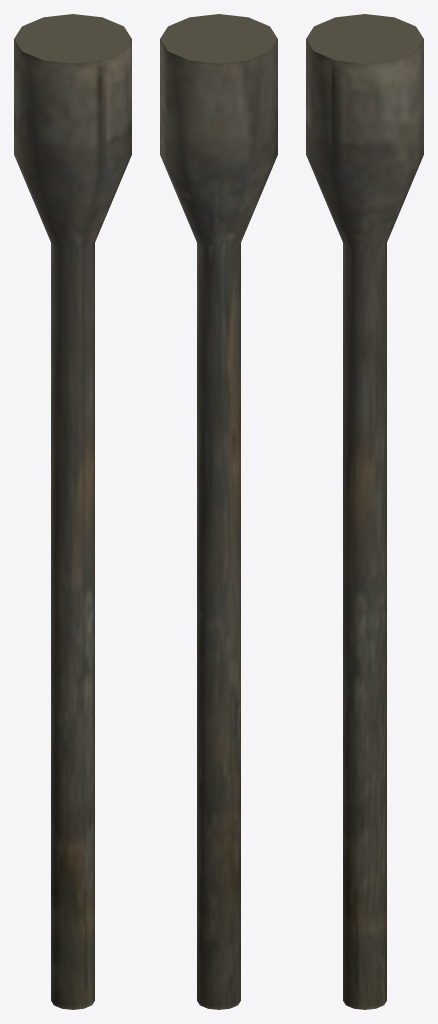
Rendered from flamingbrand.glb.
The picture shows the model from 3 angles, left to right: view 1: azimuth 30°, elevation 25°; view 2: azimuth 210°, elevation 25°; view 3: azimuth 330°, elevation 25°; orthographic projection.
Parts seen in each view (by area): view 1: flamingbrand.ms3d.mo; view 2: flamingbrand.ms3d.mo; view 3: flamingbrand.ms3d.mo.
Part boxes in pixels (box(x1,y1,x2,y2)): flamingbrand.ms3d.mo: box(14, 14, 131, 1009); flamingbrand.ms3d.mo: box(160, 14, 277, 1009); flamingbrand.ms3d.mo: box(306, 14, 423, 1009).
Bounding box in the file's own units: 2.84 × 25.58 × 2.84.
1 material, 1 textured.
